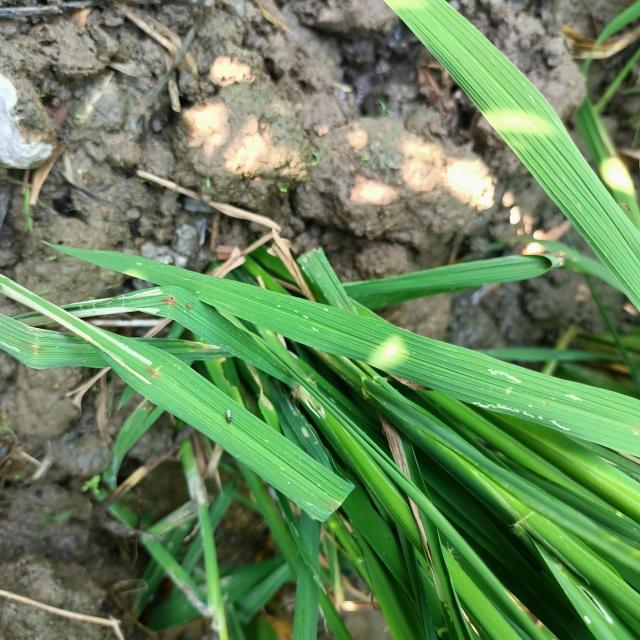rice bug -hama padi-: (201, 392, 260, 440)
